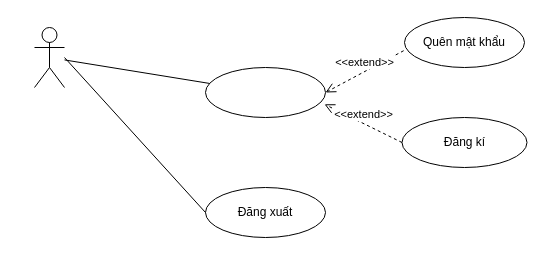
Image size: 545x255. Some labels were removed from this diagram. The centre of each missing label's shape, as x and y in pixels:
"Người dùng" belongs at point (49, 57).
"Đăng nhập" belongs at point (265, 92).
